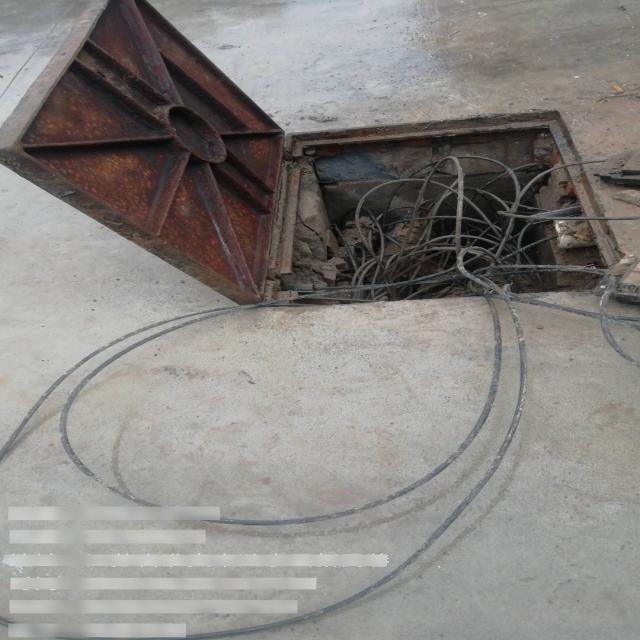Faulty: (7, 3, 640, 310)
